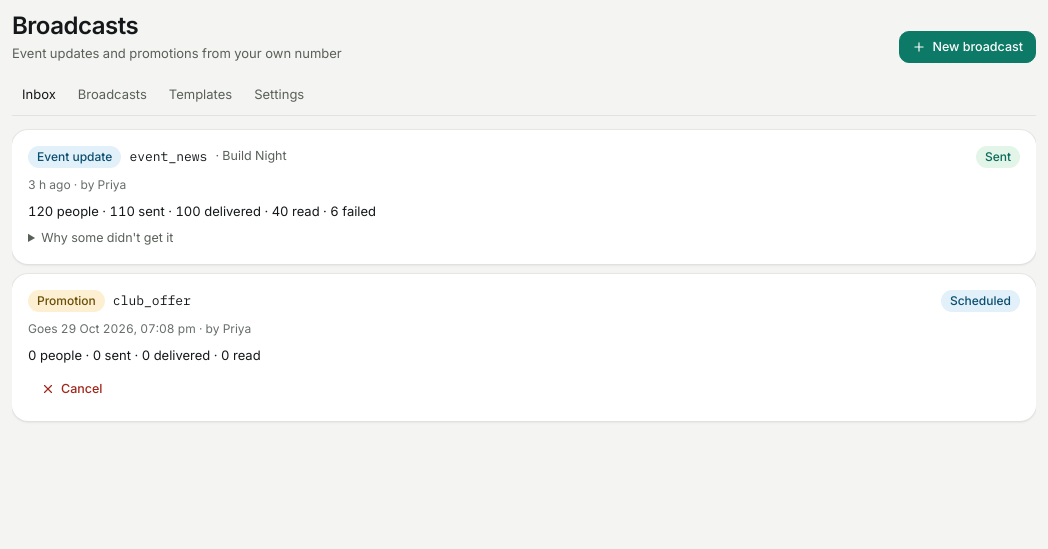
Test: broadcasts › are a tab once the API has them, and list how each went
This screenshot has width=1048, height=549.
Check: the text "Build Night" is shown, box [222,148,287,163]
Check: the text "120 people · 110 sent · 100 delivered · 40 read · 6 failed" is shown, box [28,203,376,219]
What coordinates should you click on to do the following:
click the heading "Why some didn't get it"
I would click on:
 (107, 238)
Its box is [41,230,173,245].
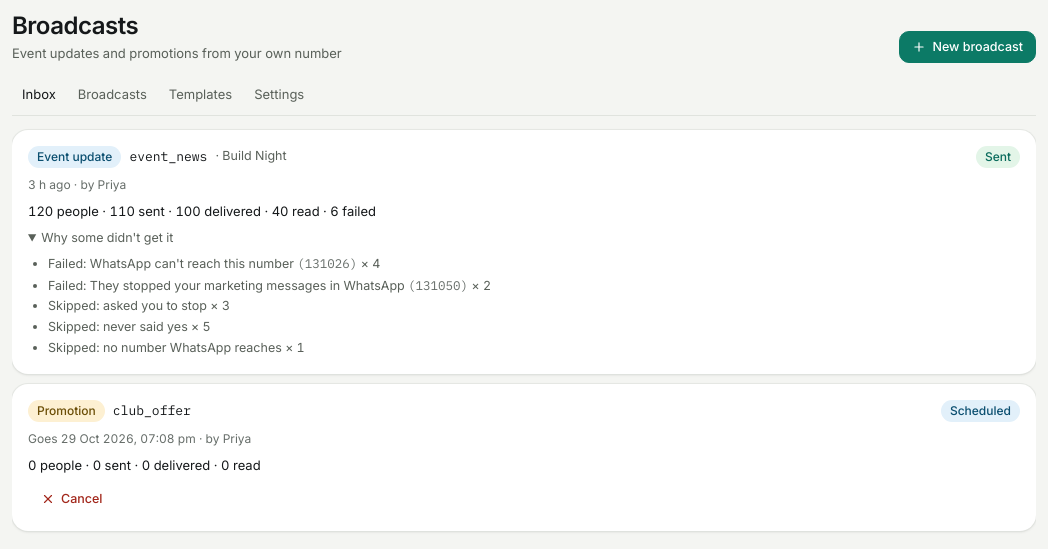
Check: the list item "Failed: WhatsApp can't reach this number (131026) × 4" is shown, box [48,255,380,271]
Check: the list item "They stopped your marketing messages in WhatsApp" is shown, box [90,278,405,293]
Check: the list item "Skipped: asked you to stop × 3" is shown, box [48,298,230,313]
